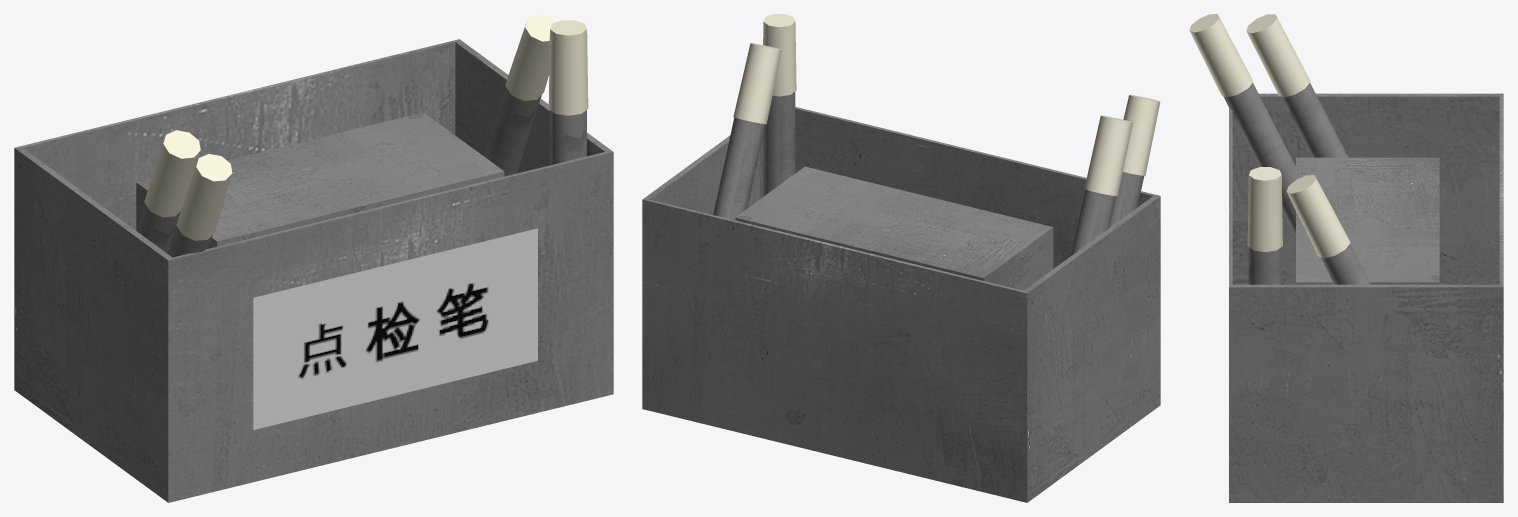
Rendered from dianjian.FBX.
The picture shows the model from 3 angles, left to right: view 1: azimuth 30°, elevation 25°; view 2: azimuth 150°, elevation 25°; view 3: azimuth 270°, elevation 25°; orthographic projection. The views are drawn at different scales.
Parts seen in each view (by area): view 1: YF_Model_dianjian; view 2: YF_Model_dianjian; view 3: YF_Model_dianjian.
Boxes of the visible parts, <box> form: YF_Model_dianjian: <box>14,14,613,502</box>; YF_Model_dianjian: <box>642,14,1160,502</box>; YF_Model_dianjian: <box>1189,14,1503,502</box>.
Size of the model in its own units: 25 by 19.19 by 17.15.
